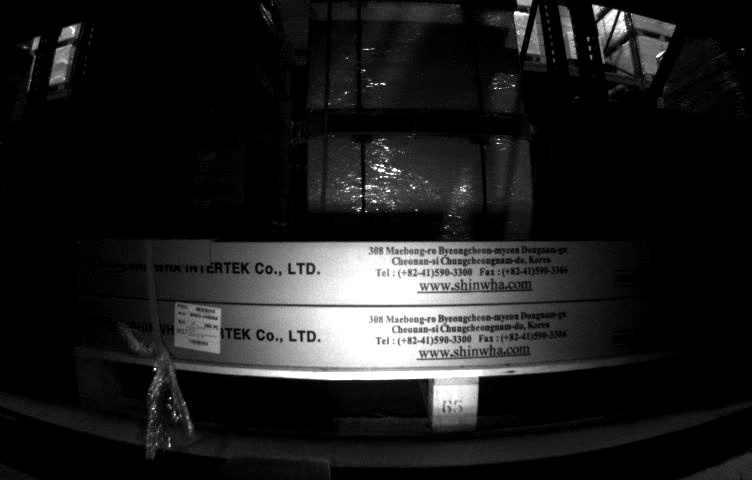True Barcode: (174, 300, 221, 353)
